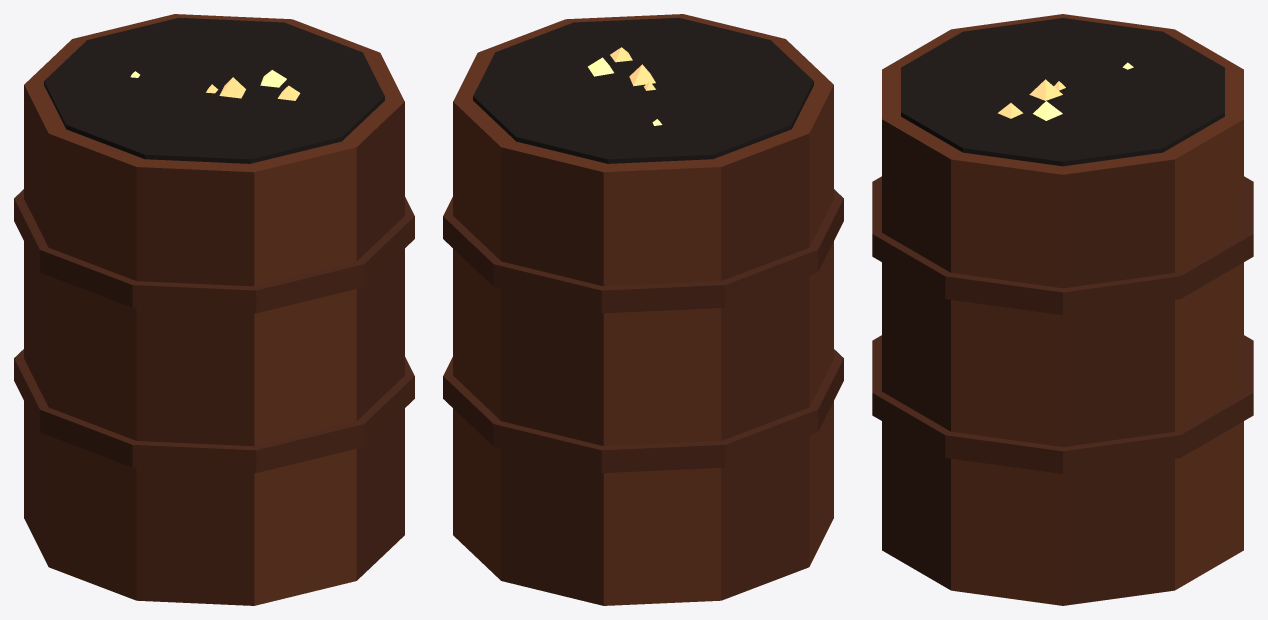
File: burning_barrel.glb
The picture shows the model from 3 angles, left to right: view 1: azimuth 30°, elevation 25°; view 2: azimuth 150°, elevation 25°; view 3: azimuth 270°, elevation 25°; orthographic projection.
Parts seen in each view (by area): view 1: burning_barrel2; view 2: burning_barrel2; view 3: burning_barrel2.
Boxes of the visible parts, <box> form: burning_barrel2: <box>14,14,414,605</box>; burning_barrel2: <box>443,14,843,605</box>; burning_barrel2: <box>872,14,1253,605</box>.
Size of the model in its own units: 0.8 by 0.994 by 0.7608.
